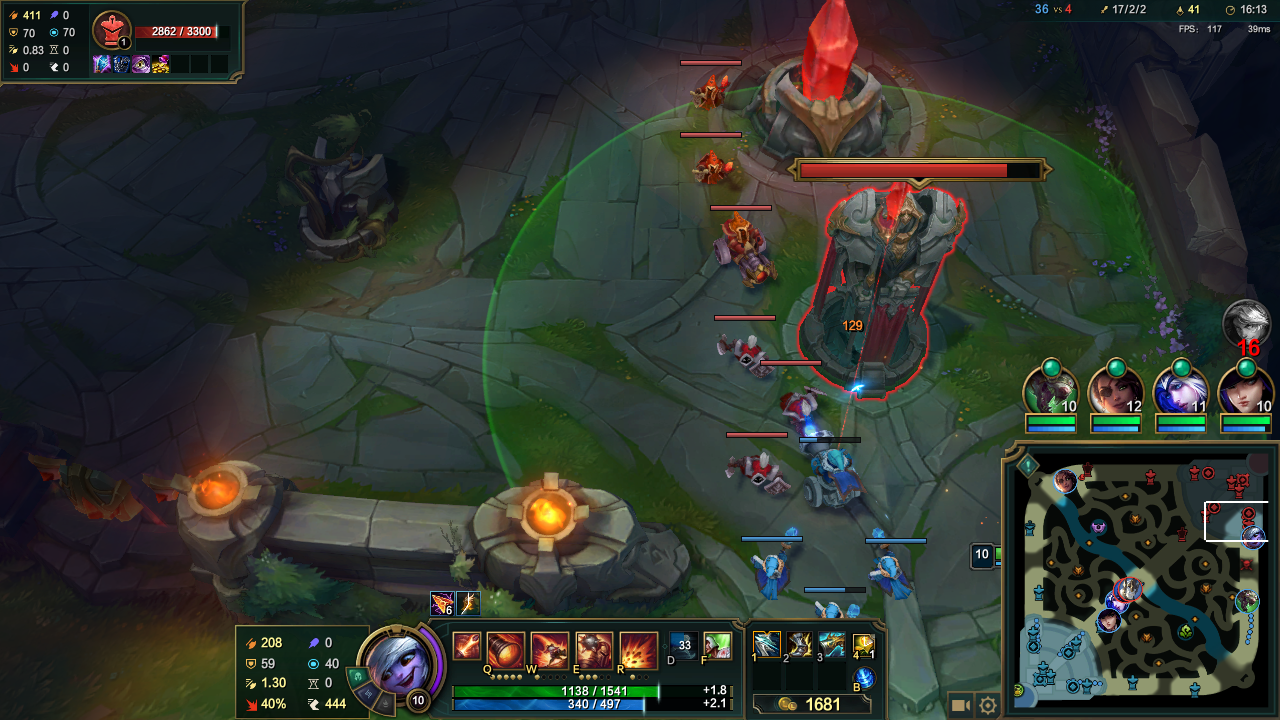DFFYT: (787, 172, 965, 399)
DFSJ: (758, 23, 895, 176)
DFXB: (704, 207, 786, 293), (709, 323, 774, 378), (722, 445, 783, 500), (769, 383, 835, 433), (684, 71, 740, 112), (683, 149, 732, 191)
WFXB: (793, 446, 870, 515), (738, 526, 808, 598), (856, 526, 917, 607), (801, 594, 865, 619)
